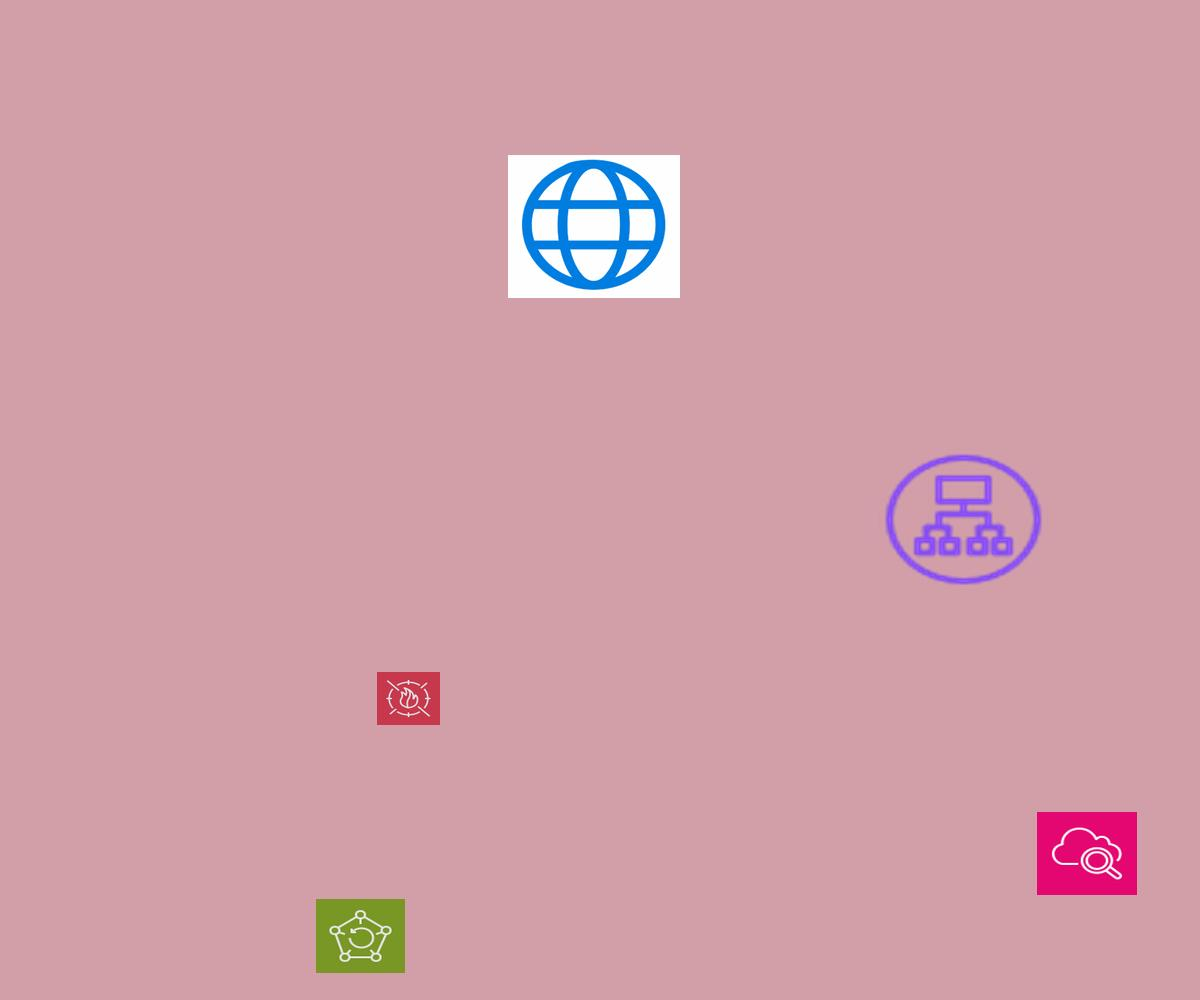AWS-Backup: (316, 899, 405, 973)
AWS-CloudWatch: (1037, 812, 1137, 895)
AWS-Res_Elastic-Load-Balancing_Application-Load-Balancer: (879, 449, 1048, 590)
AWS-WAF: (377, 672, 440, 725)
Azure_http: (508, 155, 680, 298)
